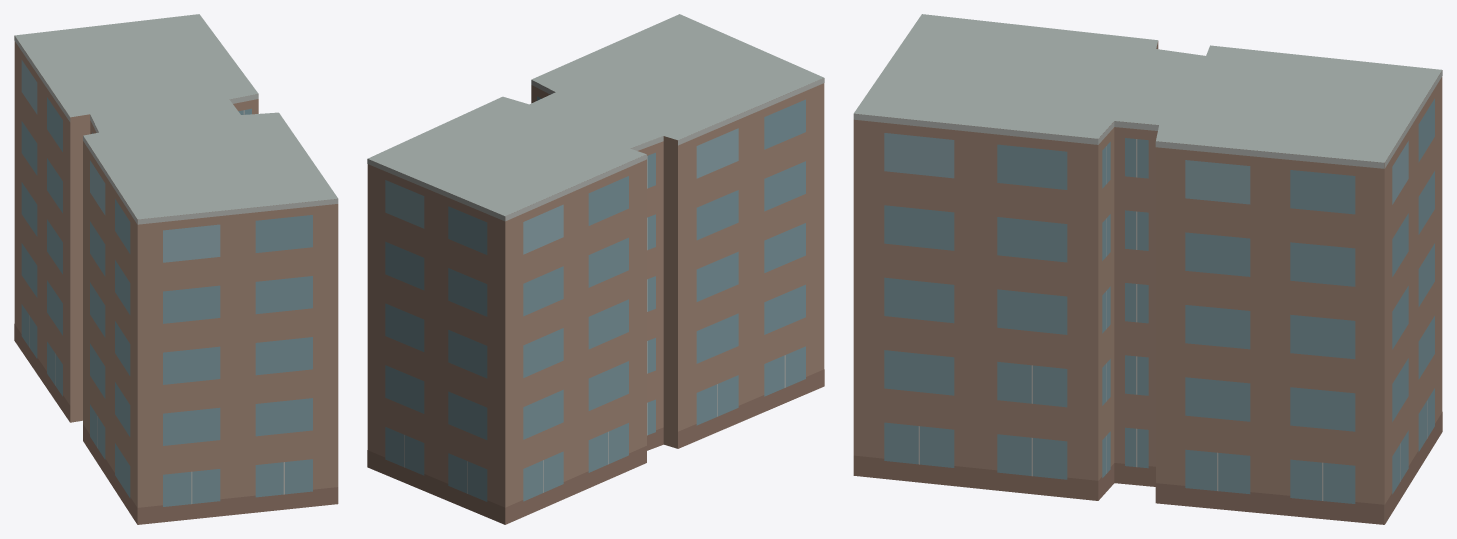
The model's file is survey-upis-32473157.glb.
3 renders of one model, left to right at view 1: azimuth 30°, elevation 25°; view 2: azimuth 150°, elevation 25°; view 3: azimuth 270°, elevation 25°, orthographic. The views are drawn at different scales.
Visible parts, largest first — view 1: survey-upis-32473157.tmp; view 2: survey-upis-32473157.tmp; view 3: survey-upis-32473157.tmp.
Part boxes in pixels (x1,y1,x2,y2): survey-upis-32473157.tmp: [14, 14, 338, 524]; survey-upis-32473157.tmp: [367, 14, 824, 524]; survey-upis-32473157.tmp: [853, 14, 1442, 524].
Size of the model in its own units: 12.78 by 14.5 by 21.38.
